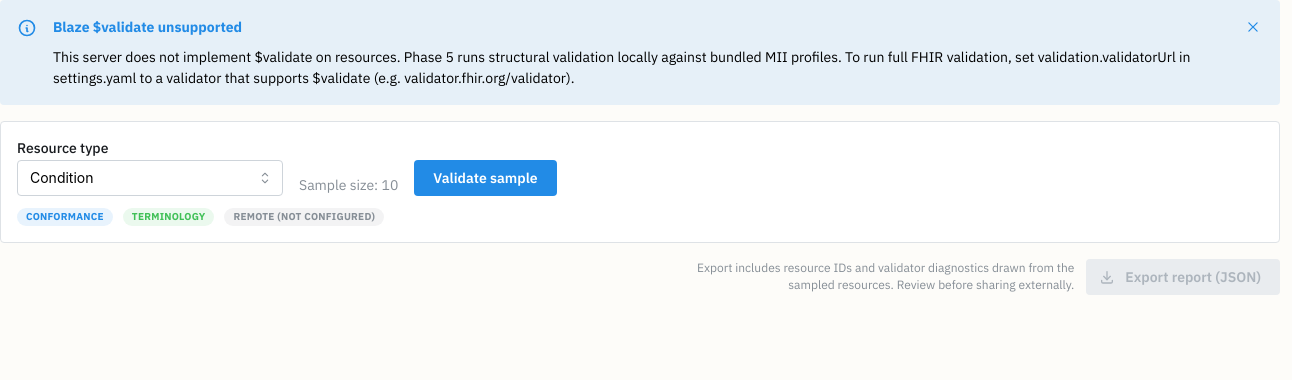
Test: ValidationPanel (QUAL-04) — validate lifecycle › on successful completion with 0 issues, shows the green "No conformance issues found" Alert
Click the button "Validate sample" at (485,178), box [414, 160, 557, 196]
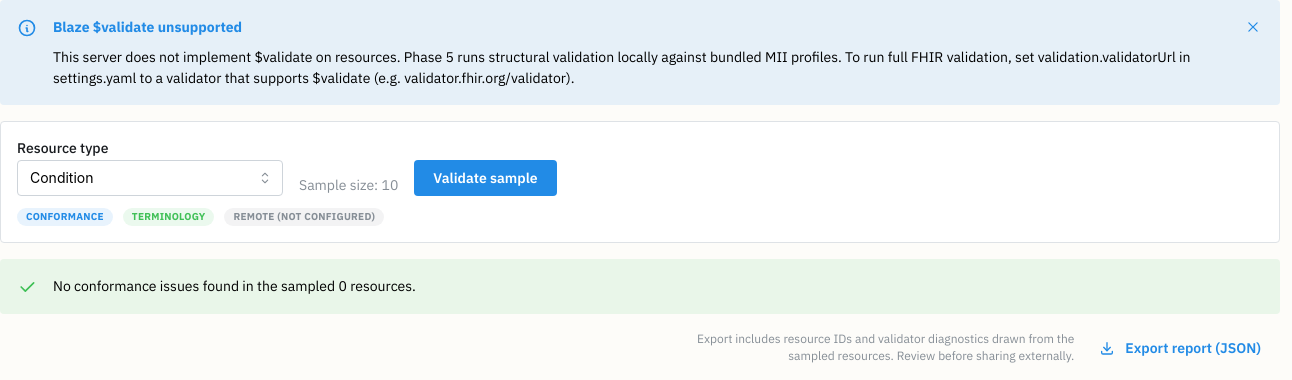
Check: the text "No conformance issues found in the sampled 0 resources." is shown, box [53, 277, 416, 295]
